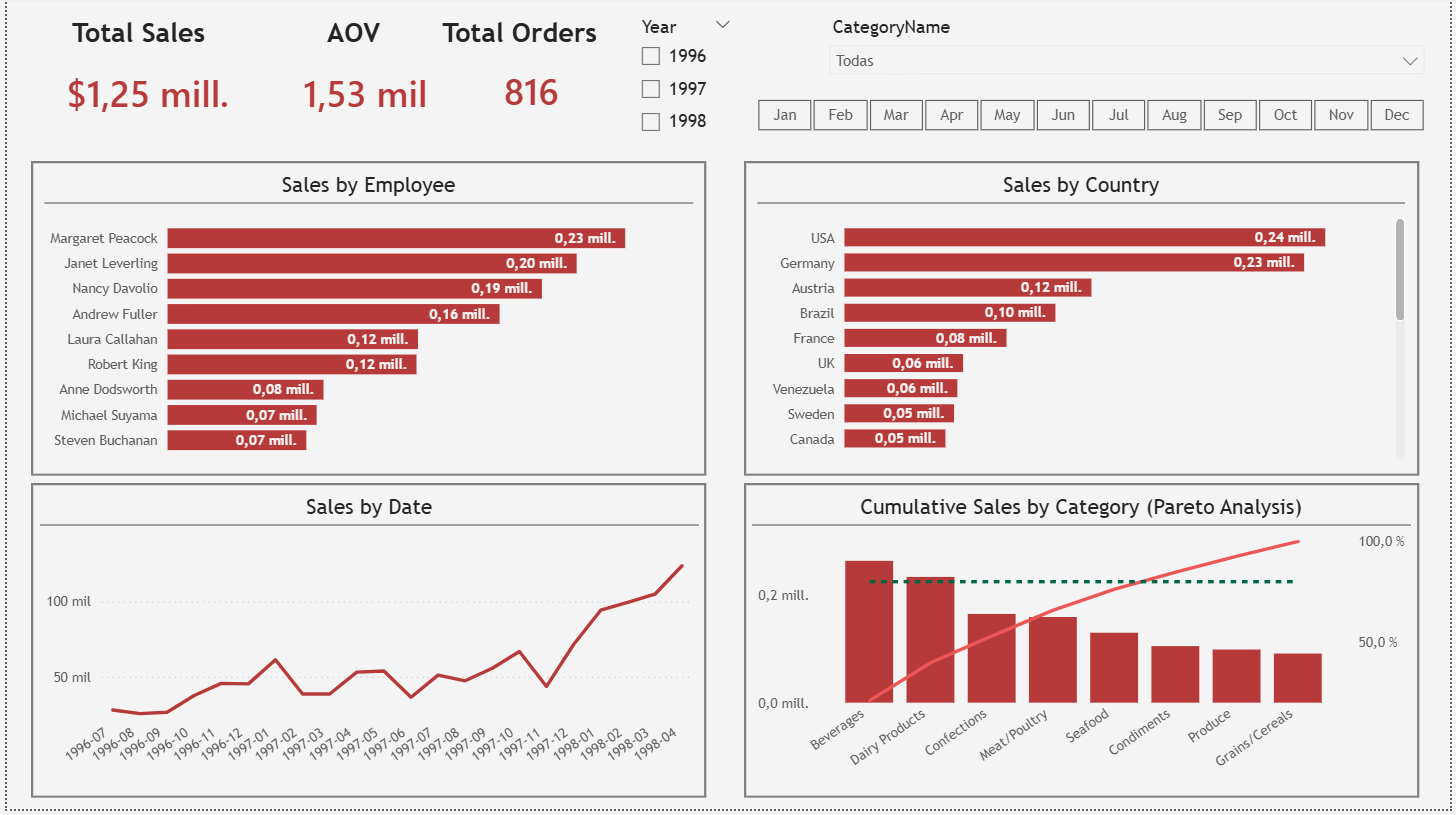

Layout of this report page (visuals, bound fields, positions):
{"tool":"powerbi","page":{"name":"Página 1","canvas":[1280,720],"ordinal":0},"visuals":[{"type":"shape","box":[21.1,431.1,598.8,279.2],"z":0},{"type":"shape","box":[653.3,431.1,598.8,279.2],"z":1000},{"type":"shape","box":[653.3,145.8,598.8,279.2],"z":2000},{"type":"slicer","fields":{"Values":["dim_date.Year"]},"box":[549.7,11.4,103.6,119.4],"z":3000},{"type":"cardVisual","fields":{"Data":["fact_sales.Total Orders"]},"box":[395.3,32.3,139.8,98.6],"z":4000},{"type":"cardVisual","fields":{"Data":["fact_sales.Average Order Value"]},"box":[217.2,32.8,178.2,99.3],"z":5000},{"type":"cardVisual","fields":{"Data":["fact_sales.Total Sales"]},"box":[21.5,35,207.1,97.7],"z":6000},{"type":"shape","box":[21.1,145.8,598.8,279.2],"z":7000},{"type":"slicer","fields":{"Values":["dim_products.CategoryName"]},"box":[719.1,11.4,547.9,72.9],"z":8000},{"type":"lineChart","title":"Sales by Date","fields":{"Y":["fact_sales.SalesAmount"],"Category":["dim_date.YearMonth"]},"box":[29,440.8,583.9,259],"z":9000},{"type":"barChart","title":"Sales by Employee","fields":{"Y":["fact_sales.SalesAmount"],"Category":["dim_employees.EmployeeName"]},"box":[28.1,155.4,584.8,259.9],"z":10000},{"type":"barChart","title":" Sales by Country","fields":{"Category":["dim_customers.Country"],"Y":["fact_sales.SalesAmount"]},"box":[660.3,155.4,583.9,259],"z":11000},{"type":"lineClusteredColumnComboChart","title":"Cumulative Sales by Category (Pareto Analysis)","fields":{"Y":["fact_sales.Total Sales"],"Y2":["fact_sales.Cumulative Sales % (Category)","fact_sales.Line 80%"],"Category":["dim_products.CategoryName"]},"box":[660.3,440.8,583.9,259],"z":12000},{"type":"slicer","fields":{"Values":["dim_date.MonthShort"]},"box":[640,84.3,640,35.9],"z":13000},{"type":"textbox","box":[28.7,11.7,176.6,45.7],"z":14000},{"type":"textbox","box":[218.7,11.7,176.6,45.7],"z":15000},{"type":"textbox","box":[366.6,11.7,176.6,45.7],"z":16000}]}

Visuals, with their boxes in screenshot pixels (x1, y1, x2, y2), scaled from the page's 1280x720 canvas onto the 1456x815 screenshot:
shape: select_region(24, 488, 705, 804)
shape: select_region(743, 488, 1424, 804)
shape: select_region(743, 165, 1424, 481)
slicer - dim_date.Year: select_region(625, 13, 743, 148)
cardVisual - fact_sales.Total Orders: select_region(450, 37, 609, 148)
cardVisual - fact_sales.Average Order Value: select_region(247, 37, 450, 150)
cardVisual - fact_sales.Total Sales: select_region(24, 40, 260, 150)
shape: select_region(24, 165, 705, 481)
slicer - dim_products.CategoryName: select_region(818, 13, 1441, 95)
"Sales by Date" lineChart: select_region(33, 499, 697, 792)
"Sales by Employee" barChart: select_region(32, 176, 697, 470)
" Sales by Country" barChart: select_region(751, 176, 1415, 469)
"Cumulative Sales by Category (Pareto Analysis)" lineClusteredColumnComboChart: select_region(751, 499, 1415, 792)
slicer - dim_date.MonthShort: select_region(728, 95, 1455, 136)
textbox: select_region(33, 13, 234, 65)
textbox: select_region(249, 13, 450, 65)
textbox: select_region(417, 13, 618, 65)
